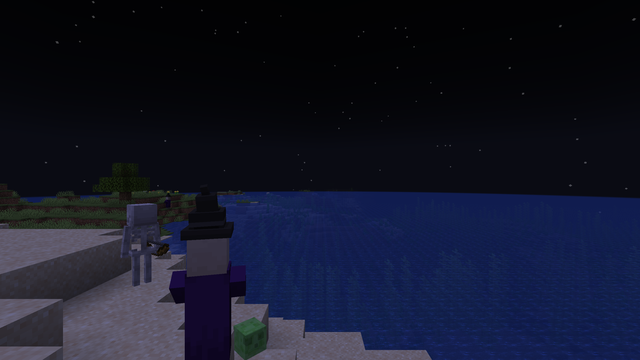slimes: (243, 318, 263, 357)
sorcieres: (175, 225, 238, 356), (165, 196, 170, 208)
squelettes: (120, 203, 160, 287)
